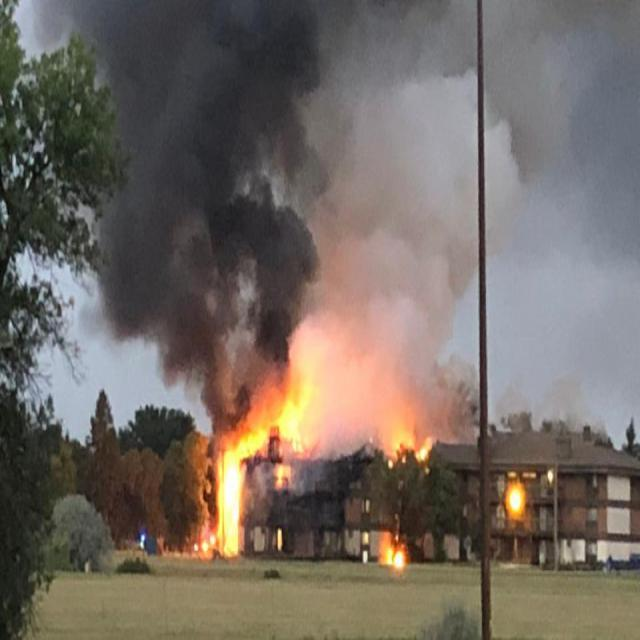Fire: (185, 348, 319, 560), (374, 414, 436, 583)
